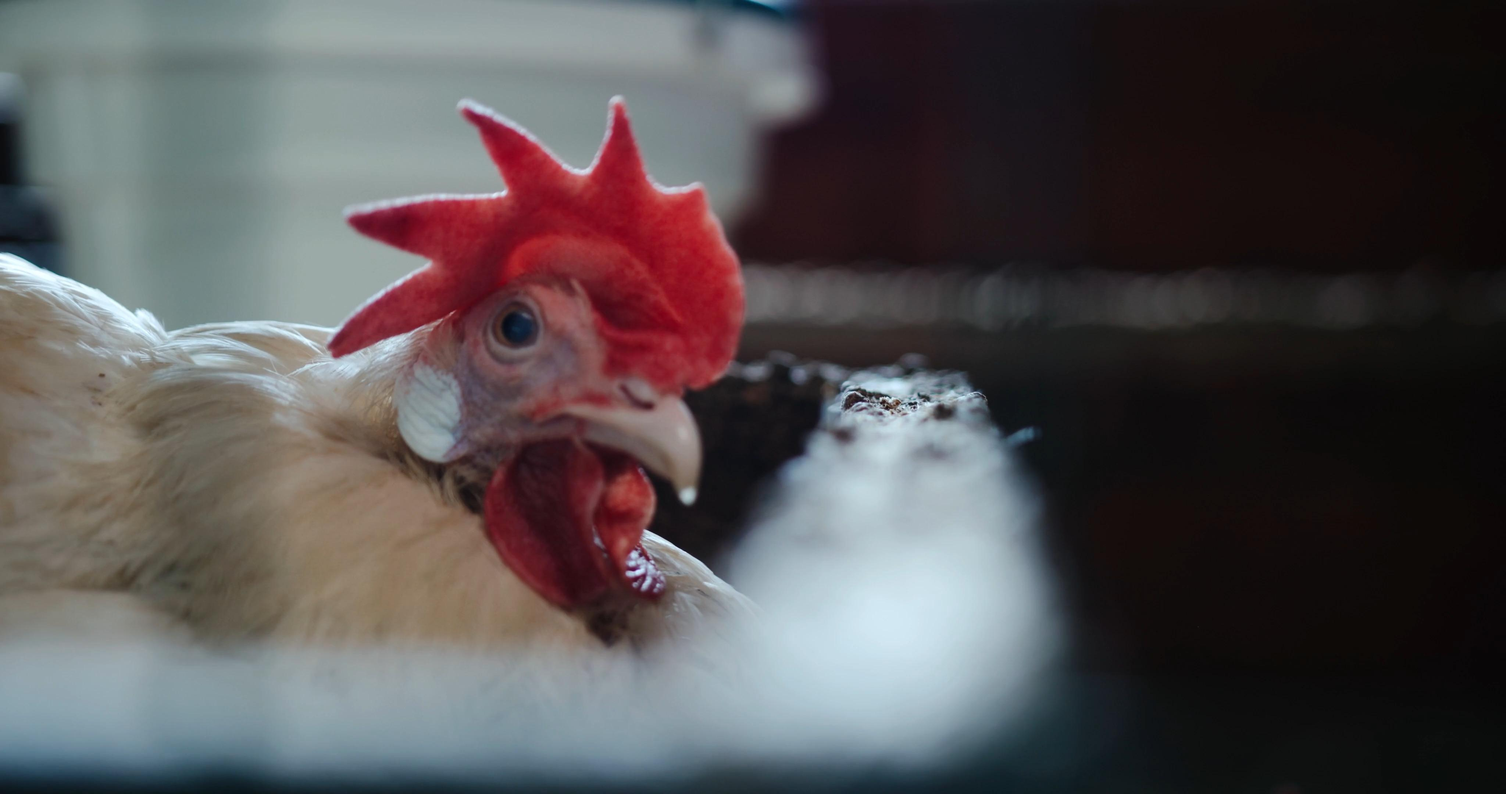Normal: (22, 101, 749, 700)
